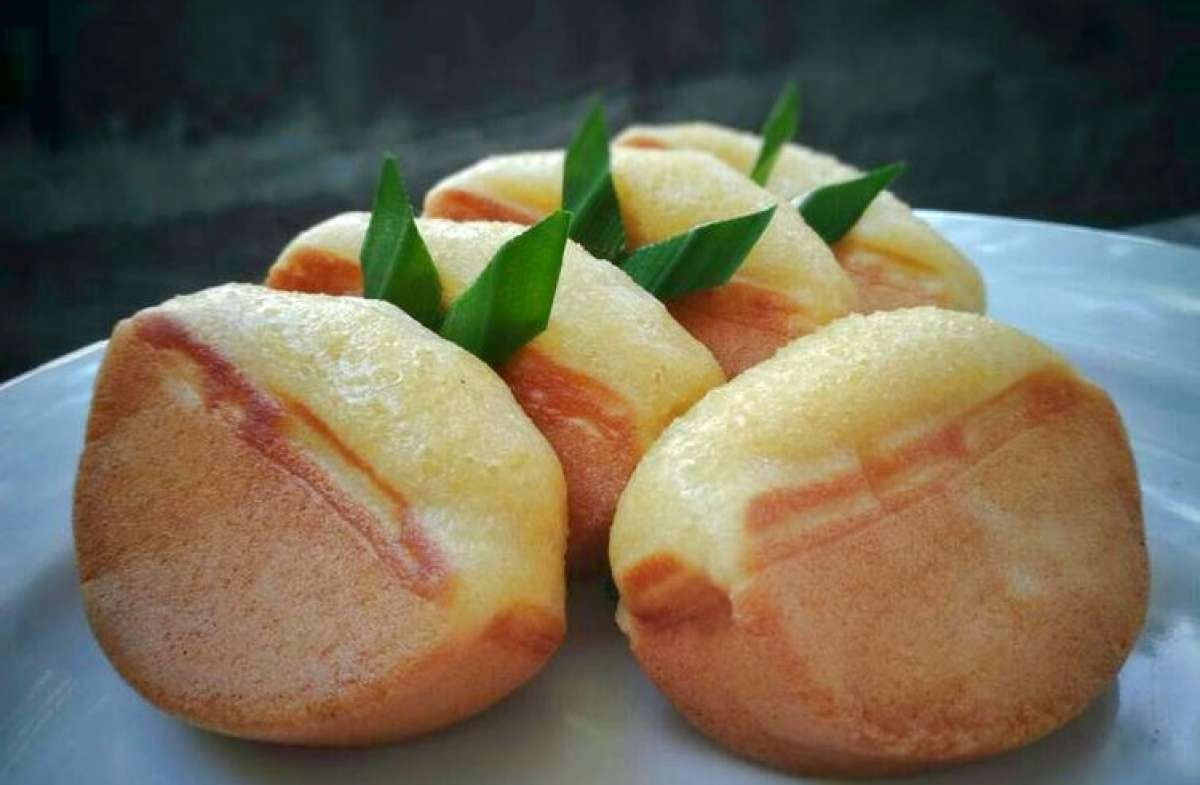pukis: (610, 249, 1180, 763), (26, 215, 575, 726)
